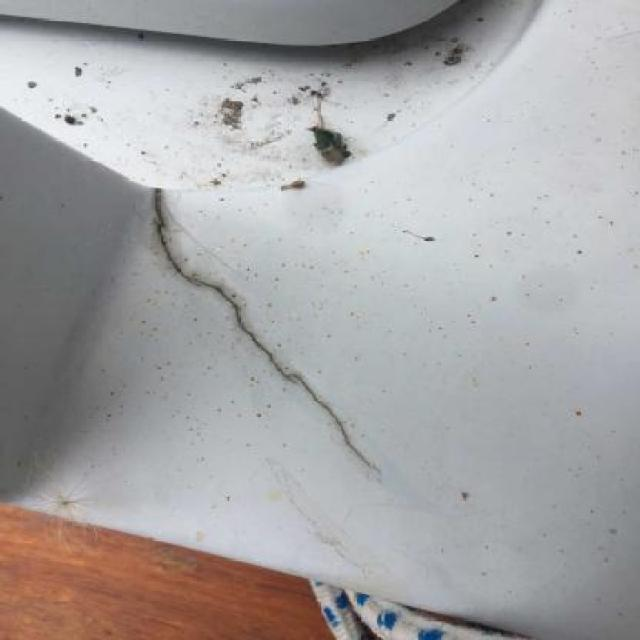crack: (147, 182, 387, 481)
